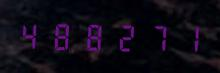eight: (47, 18, 76, 52), (78, 19, 107, 52)
four: (17, 18, 46, 51)
one: (168, 21, 197, 54)
seven: (138, 20, 167, 53)
two: (108, 19, 137, 53)
